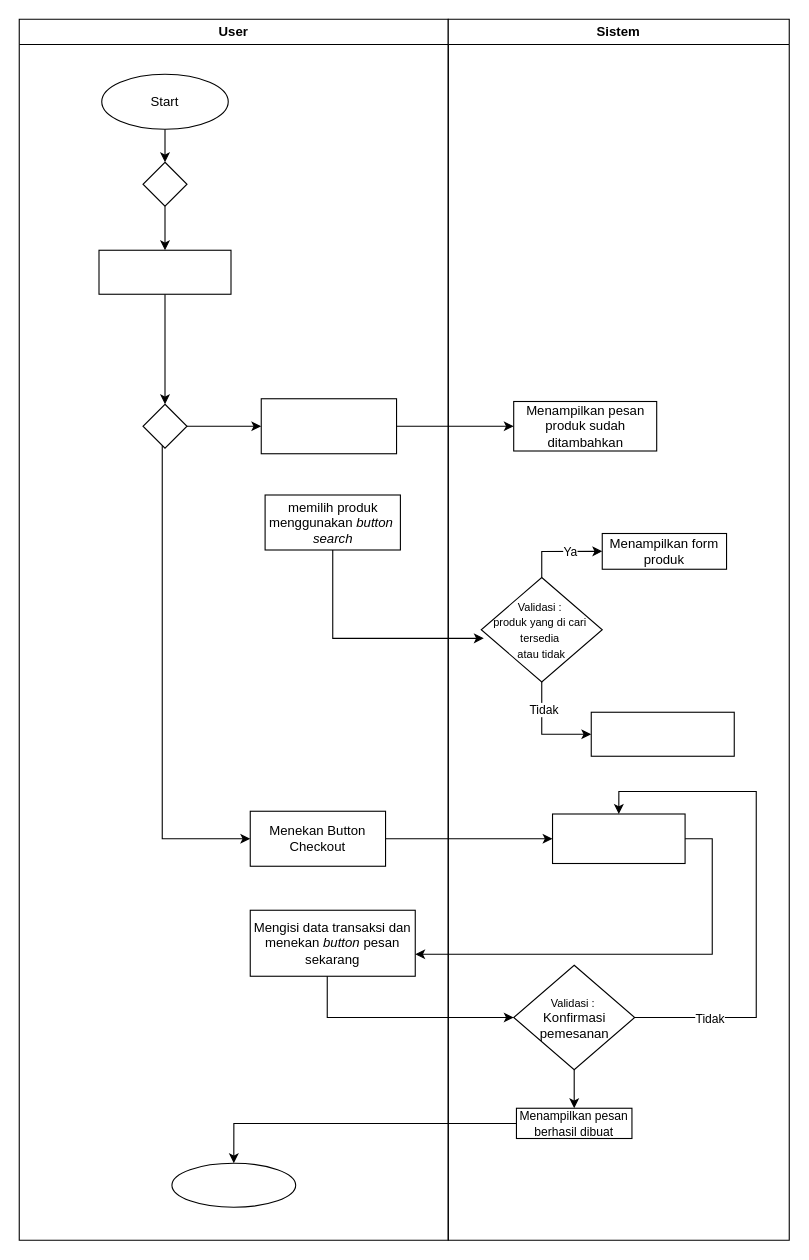
Image size: 809x1260. Some labels were removed from this diagram. Each missing label, with the centre of its shape:
End: pixel 233 1184
form dengan pesan "produk tidak tersedia": pixel 662 733
Halaman Form Belanja Cepat: pixel 164 271
klik button centang dan pemilihan jumlah produk: pixel 328 426
Menampilkan Halaman Proses Transaksi: pixel 618 838
